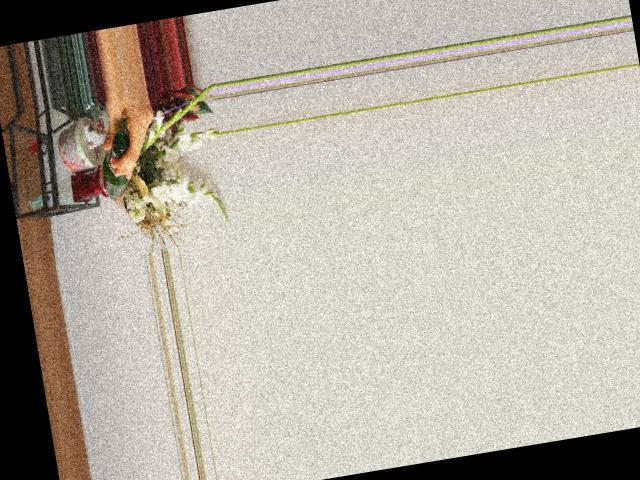beer: (95, 130, 137, 200)
